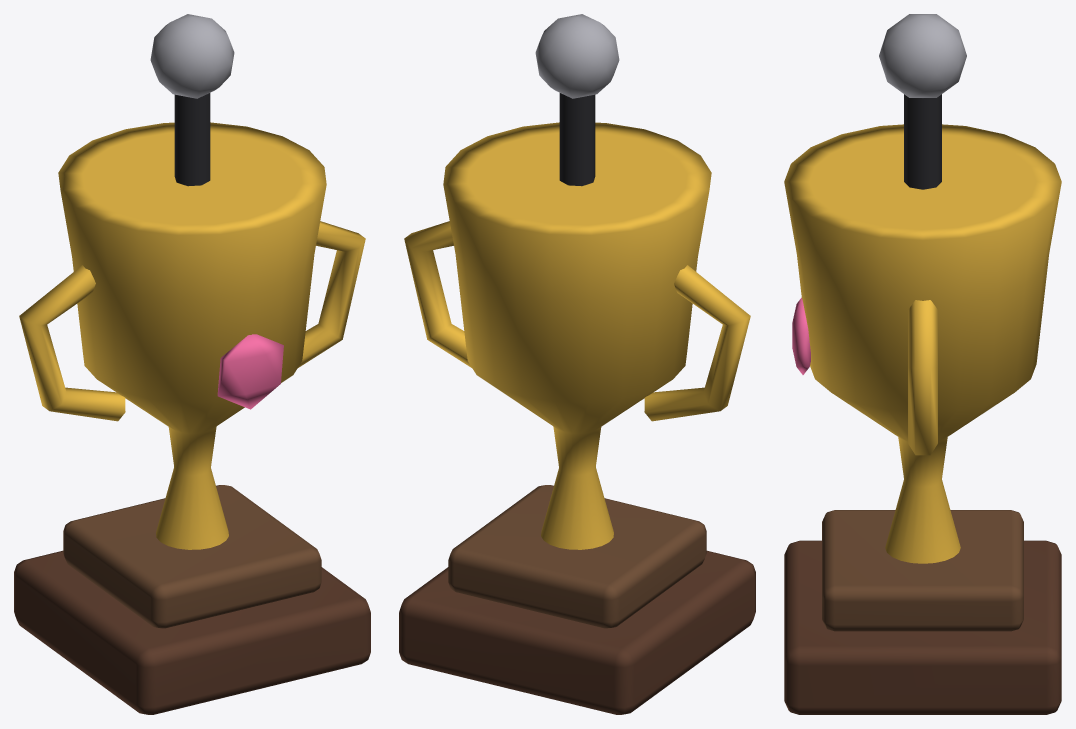
Rendered from furn_trophy_karaoke.glb.
3 renders of one model, left to right at view 1: azimuth 30°, elevation 25°; view 2: azimuth 150°, elevation 25°; view 3: azimuth 270°, elevation 25°, orthographic. The views are drawn at different scales.
Parts seen in each view (by area): view 1: furn_trophy_karaoke_gloss, furn_trophy_karaoke_main; view 2: furn_trophy_karaoke_gloss, furn_trophy_karaoke_main; view 3: furn_trophy_karaoke_gloss, furn_trophy_karaoke_main.
Part boxes in pixels (<box>): furn_trophy_karaoke_gloss: <box>19,122,365,549</box>; furn_trophy_karaoke_main: <box>14,14,370,714</box>; furn_trophy_karaoke_gloss: <box>404,122,750,549</box>; furn_trophy_karaoke_main: <box>399,14,755,714</box>; furn_trophy_karaoke_gloss: <box>784,124,1061,563</box>; furn_trophy_karaoke_main: <box>784,14,1061,714</box>.
Size of the model in its own units: 0.3194 by 0.565 by 0.22.
